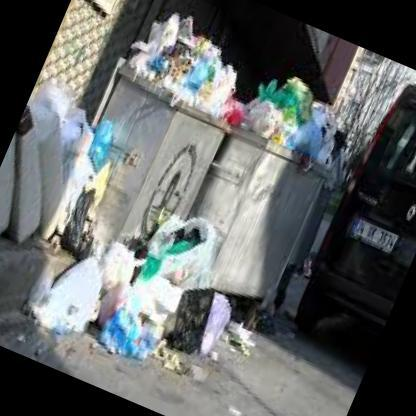Garbage: (19, 182, 274, 407), (110, 0, 278, 125), (239, 70, 357, 173), (28, 244, 122, 355), (39, 162, 128, 270), (157, 277, 245, 385), (96, 266, 178, 348), (76, 102, 134, 178), (138, 9, 198, 68), (181, 34, 237, 94), (260, 95, 320, 149)
